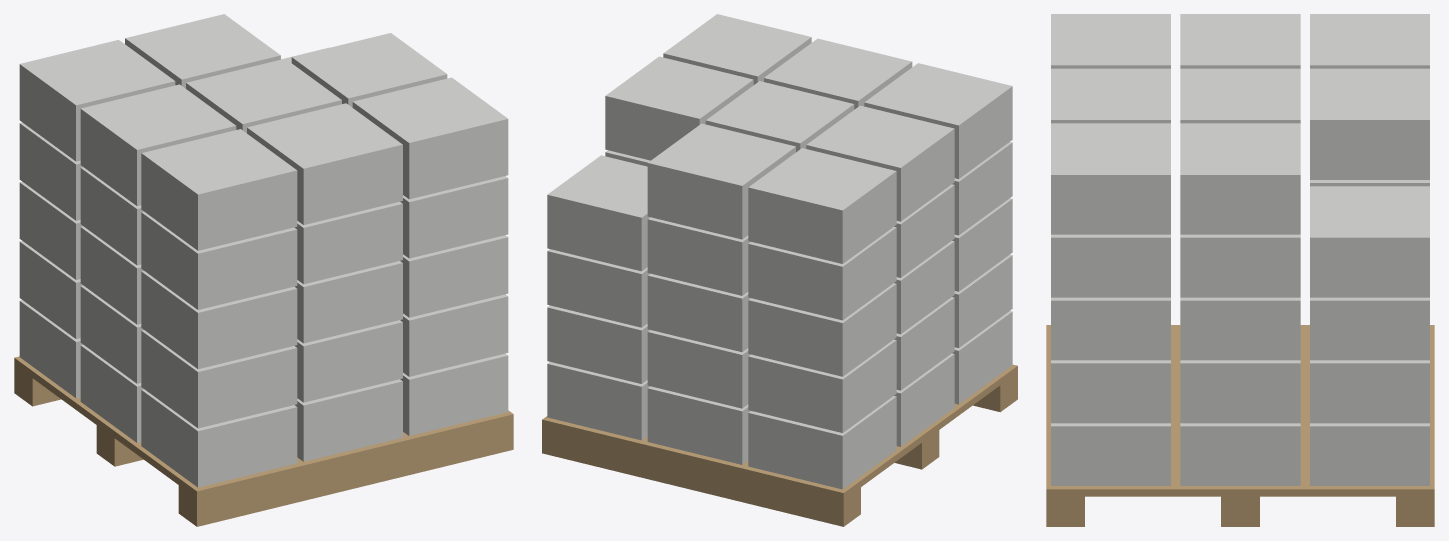
File: pallet_mp_44.glb
The picture shows the model from 3 angles, left to right: view 1: azimuth 30°, elevation 25°; view 2: azimuth 150°, elevation 25°; view 3: azimuth 270°, elevation 25°; orthographic projection. The views are drawn at different scales.
Visible parts, largest first — view 1: PalletMP; view 2: PalletMP; view 3: PalletMP.
Boxes of the visible parts, x1=… form: PalletMP: x1=14, y1=14, x2=513, y2=526; PalletMP: x1=542, y1=14, x2=1017, y2=526; PalletMP: x1=1046, y1=14, x2=1434, y2=526.
Size of the model in its own units: 1 by 0.9957 by 1.
